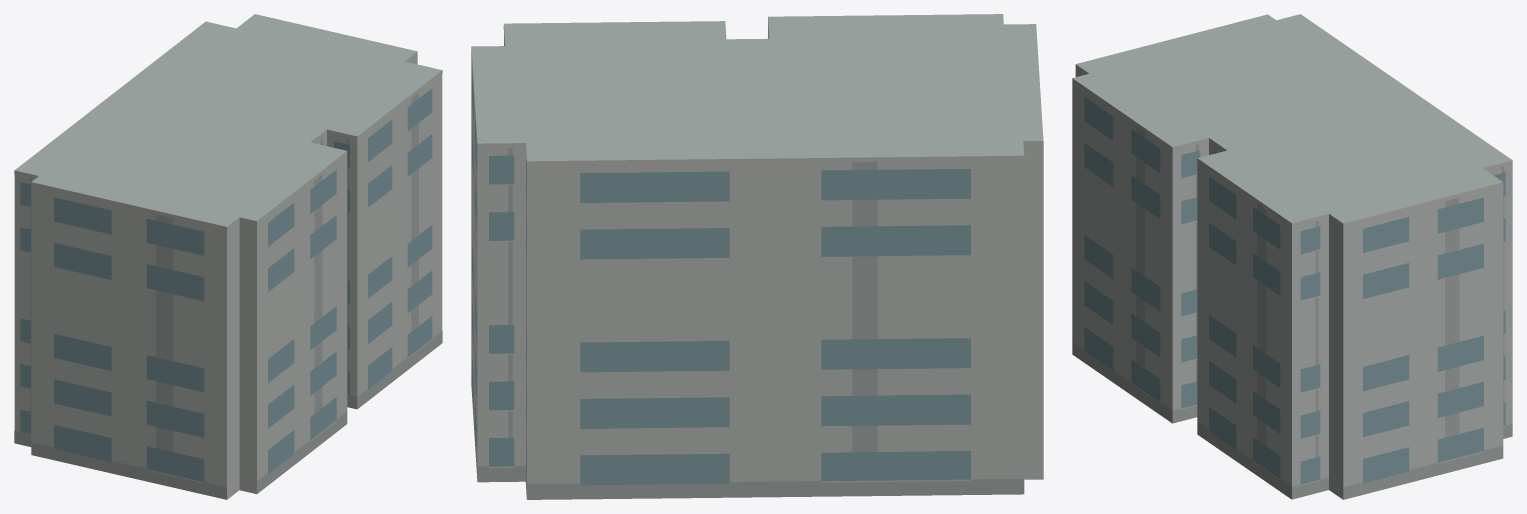
Rendered from residential-fce5c122-ee1f-4fce-8d0d-ff65bcf4b214.glb.
The picture shows the model from 3 angles, left to right: view 1: azimuth 30°, elevation 25°; view 2: azimuth 150°, elevation 25°; view 3: azimuth 270°, elevation 25°; orthographic projection. The views are drawn at different scales.
Visible parts, largest first — view 1: residential-fce5c122-ee1f-4fce-8d0d-ff65bcf4b214.tmp; view 2: residential-fce5c122-ee1f-4fce-8d0d-ff65bcf4b214.tmp; view 3: residential-fce5c122-ee1f-4fce-8d0d-ff65bcf4b214.tmp.
Part boxes in pixels (x1=…): residential-fce5c122-ee1f-4fce-8d0d-ff65bcf4b214.tmp: x1=14, y1=14, x2=442, y2=499; residential-fce5c122-ee1f-4fce-8d0d-ff65bcf4b214.tmp: x1=471, y1=14, x2=1043, y2=499; residential-fce5c122-ee1f-4fce-8d0d-ff65bcf4b214.tmp: x1=1072, y1=14, x2=1512, y2=499.
Bounding box in the file's own units: 28.64 × 17.6 × 25.44.
